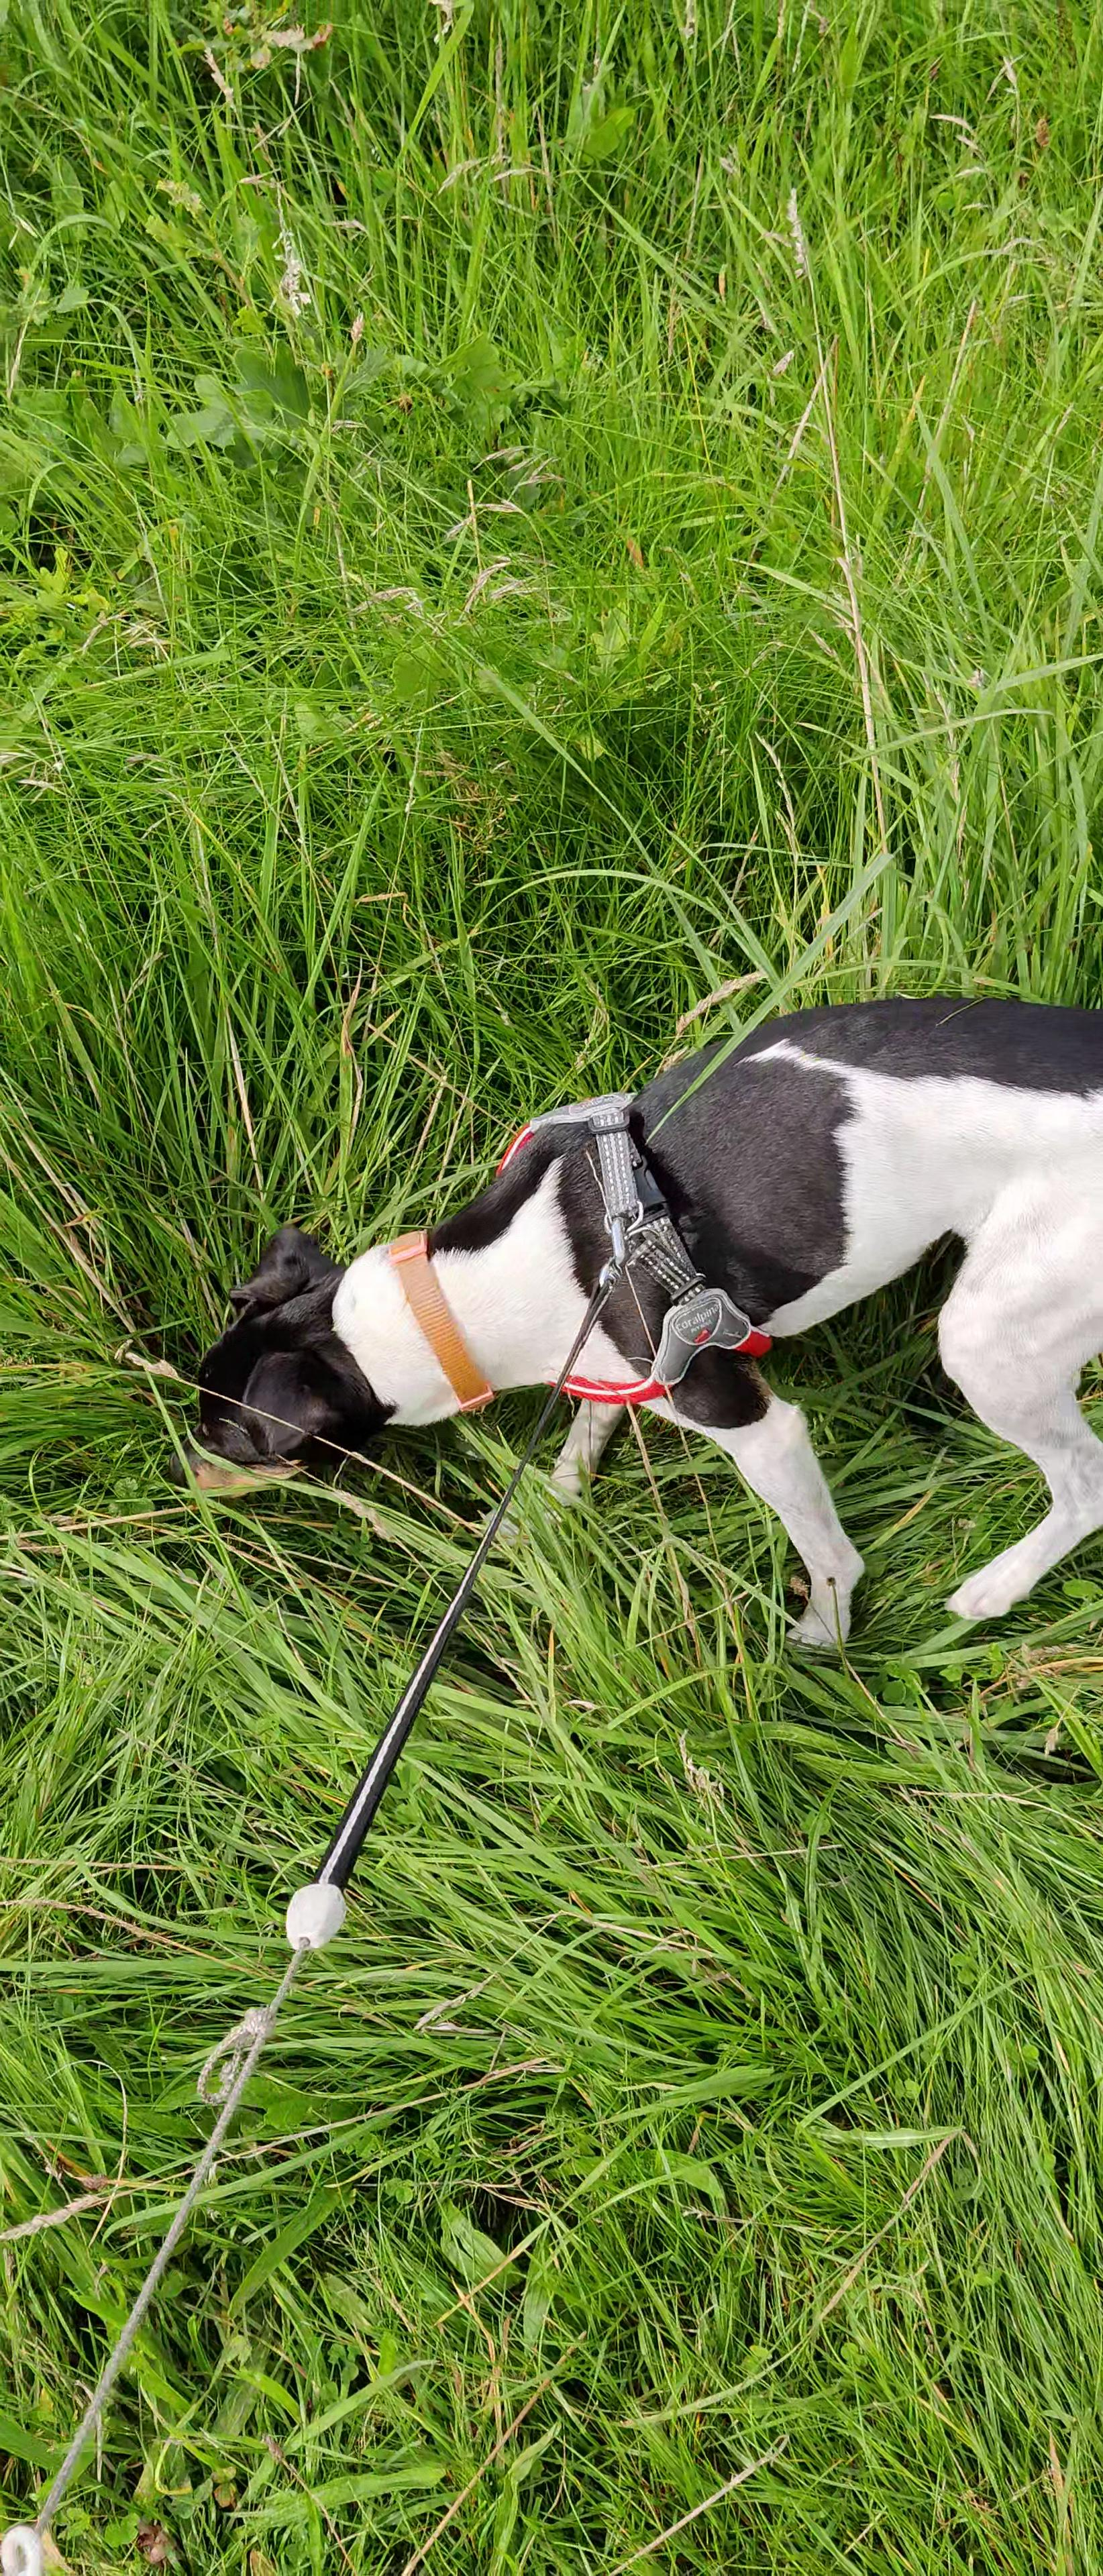Dog: (153, 992, 1103, 1661)
